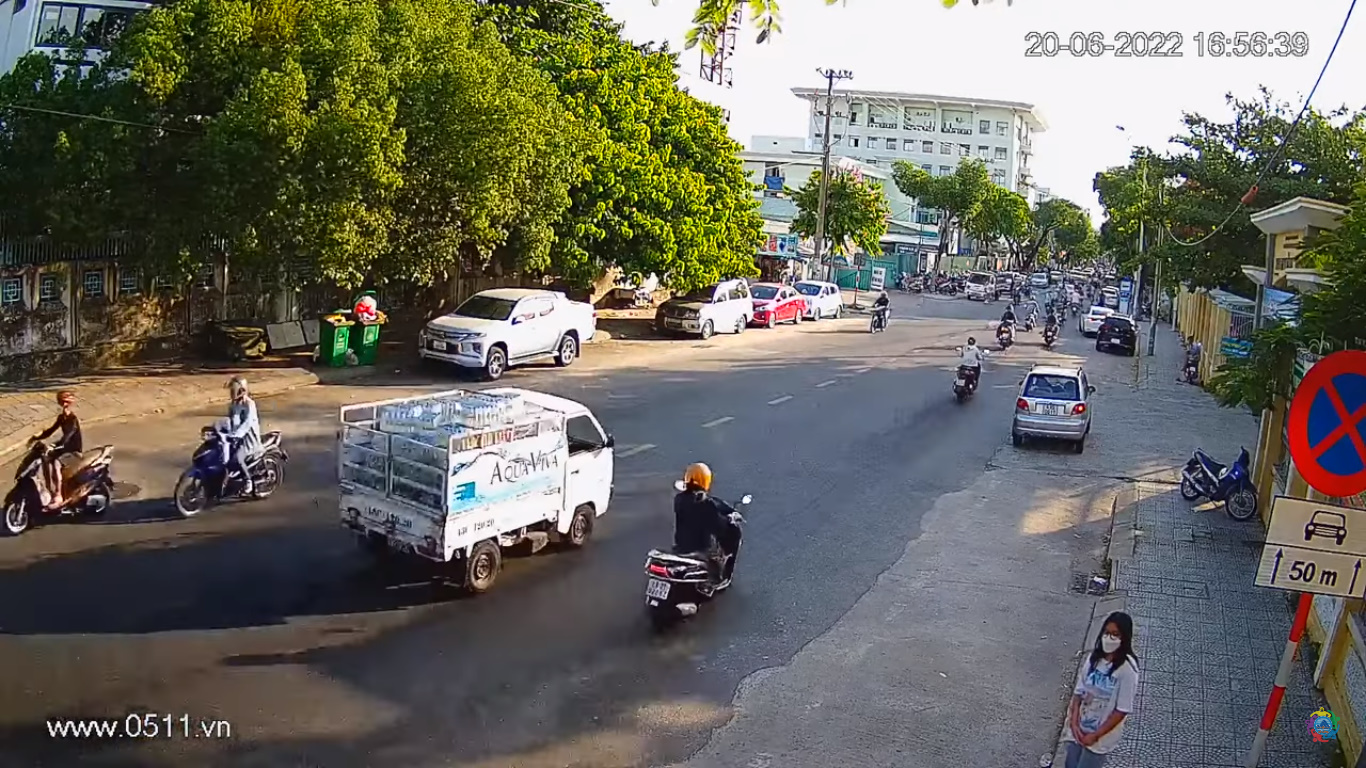truck: (329, 390, 618, 588)
